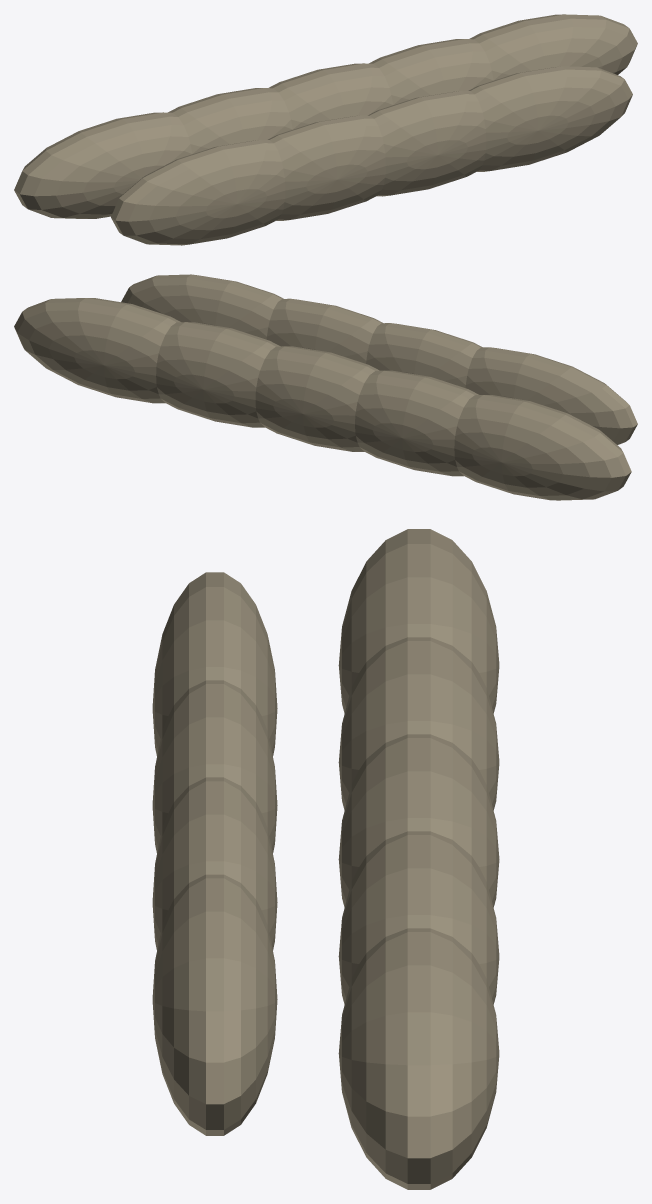
File: sandbag_wall.glb
3 renders of one model, top to bottom at view 1: azimuth 30°, elevation 25°; view 2: azimuth 150°, elevation 25°; view 3: azimuth 270°, elevation 25°, orthographic. The views are drawn at different scales.
Visible parts, largest first — view 1: world; view 2: world; view 3: world.
Boxes of the visible parts, x1,y1,x2,y2 form: world: (14, 14, 637, 245); world: (14, 274, 637, 500); world: (152, 529, 499, 1189).
Size of the model in its own units: 2.77 by 0.3811 by 0.68.
